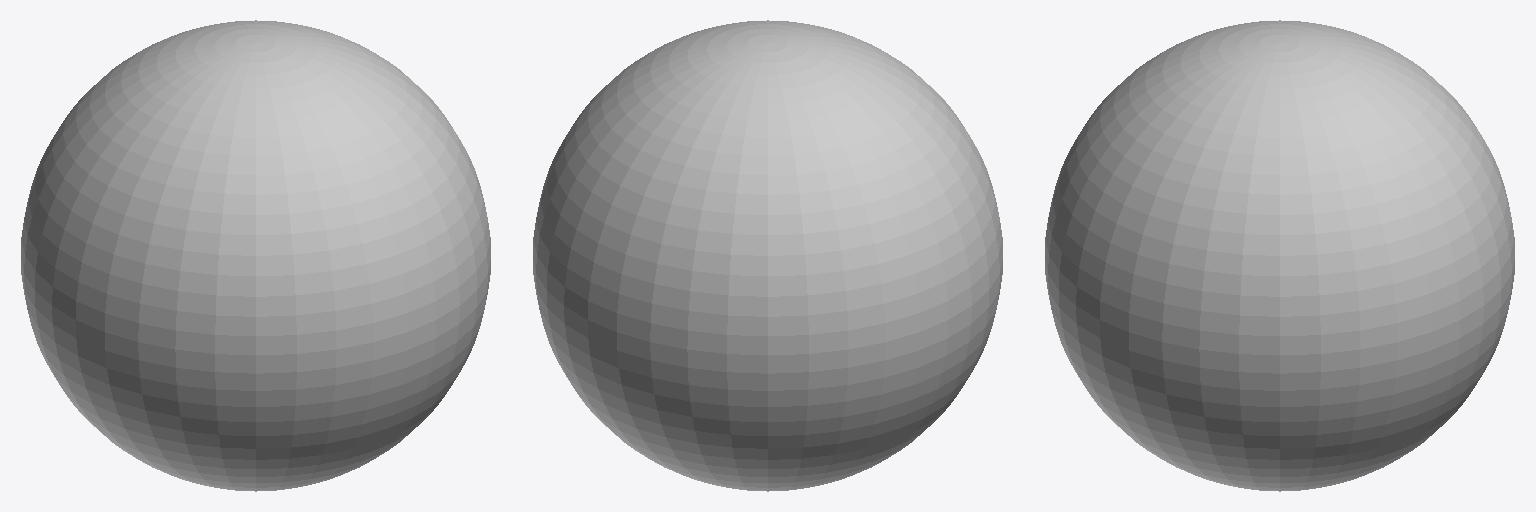
Rendered from player.obj.
The picture shows the model from 3 angles: view 1: azimuth 30°, elevation 25°; view 2: azimuth 150°, elevation 25°; view 3: azimuth 270°, elevation 25°; orthographic projection.
Parts seen in each view (by area): view 1: Сфера; view 2: Сфера; view 3: Сфера.
Part boxes in pixels (bbox=[...]): Сфера: bbox=[21, 20, 490, 491]; Сфера: bbox=[533, 20, 1002, 491]; Сфера: bbox=[1045, 20, 1514, 491].
Size of the model in its own units: 2 by 2 by 2.